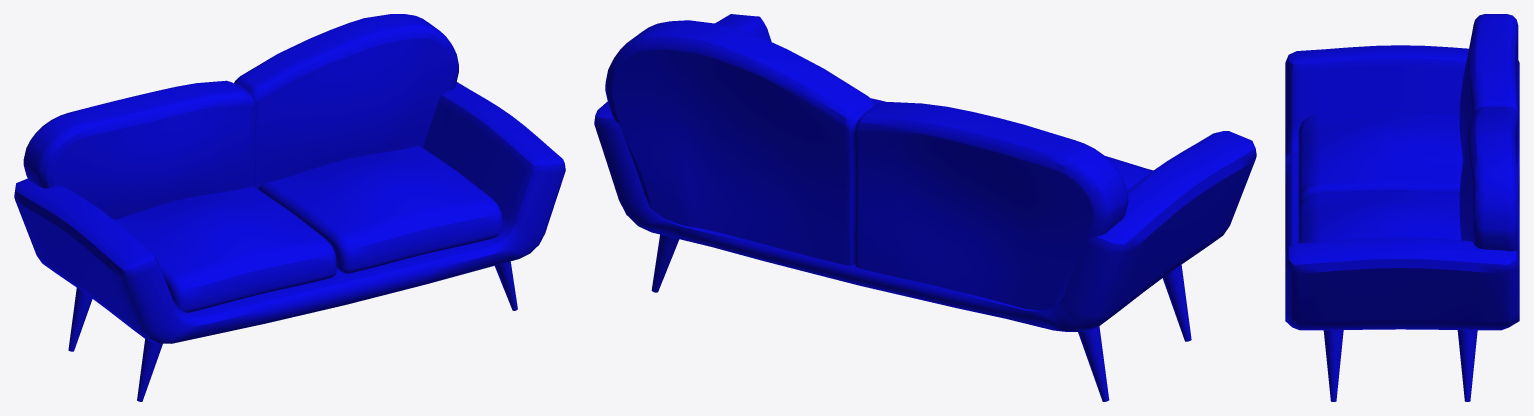
Rendered from Sofa_msh.fbx.
The picture shows the model from 3 angles, left to right: view 1: azimuth 30°, elevation 25°; view 2: azimuth 150°, elevation 25°; view 3: azimuth 270°, elevation 25°; orthographic projection. The views are drawn at different scales.
Parts seen in each view (by area): view 1: Sofa_msh, pillowB_SofaA_msh, pillowA_SofaA_msh; view 2: Sofa_msh, pillowA_SofaA_msh; view 3: Sofa_msh, pillowA_SofaA_msh, pillowB_SofaA_msh.
Boxes of the visible parts, x1=… form: Sofa_msh: x1=14, y1=14, x2=565, y2=401; pillowB_SofaA_msh: x1=258, y1=145, x2=502, y2=273; pillowA_SofaA_msh: x1=114, y1=186, x2=336, y2=312; Sofa_msh: x1=594, y1=14, x2=1256, y2=401; pillowA_SofaA_msh: x1=1105, y1=156, x2=1153, y2=191; Sofa_msh: x1=1285, y1=14, x2=1519, y2=401; pillowA_SofaA_msh: x1=1298, y1=111, x2=1463, y2=209; pillowB_SofaA_msh: x1=1298, y1=190, x2=1461, y2=243.
Bounding box in the file's own units: 226 × 117 × 105.
